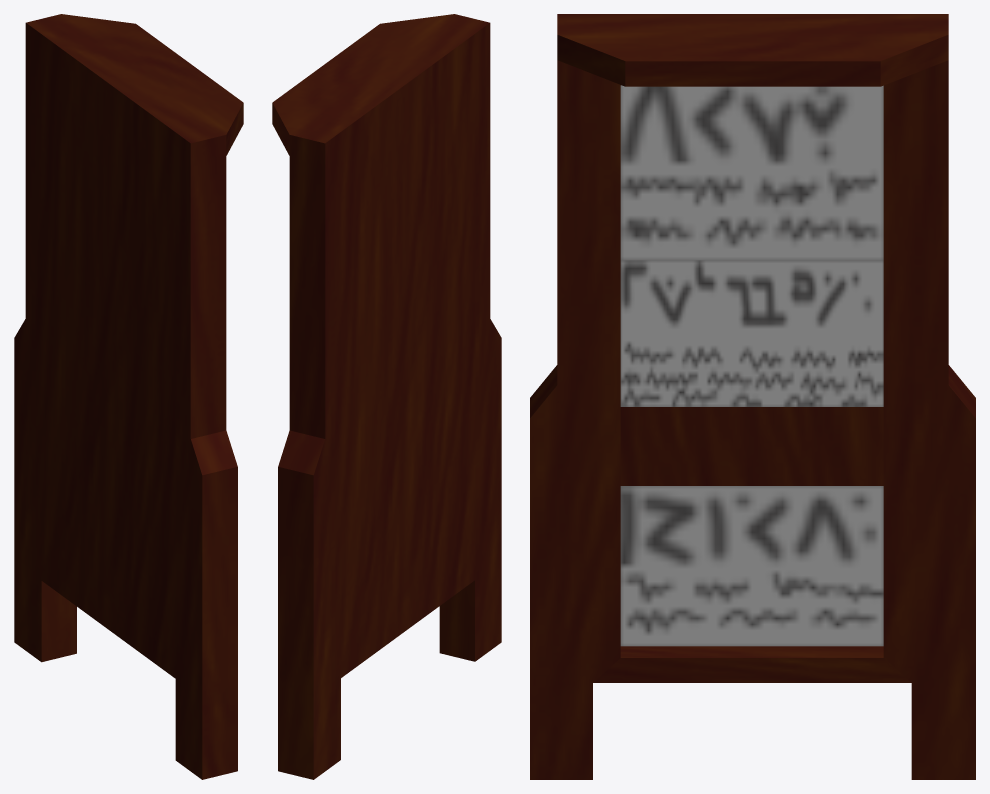
File: Board 3.fbx
3 views of the same model, side by side, from view 1: azimuth 30°, elevation 25°; view 2: azimuth 150°, elevation 25°; view 3: azimuth 270°, elevation 25° (orthographic). The views are drawn at different scales.
Parts seen in each view (by area): view 1: Board_3; view 2: Board_3; view 3: Board_3.
Part boxes in pixels (x1,y1,x2,y2): Board_3: [14, 14, 243, 779]; Board_3: [272, 14, 501, 779]; Board_3: [530, 14, 975, 779].
Bounding box in the file's own units: 31.9 × 235 × 127.
1 material, 1 textured.
